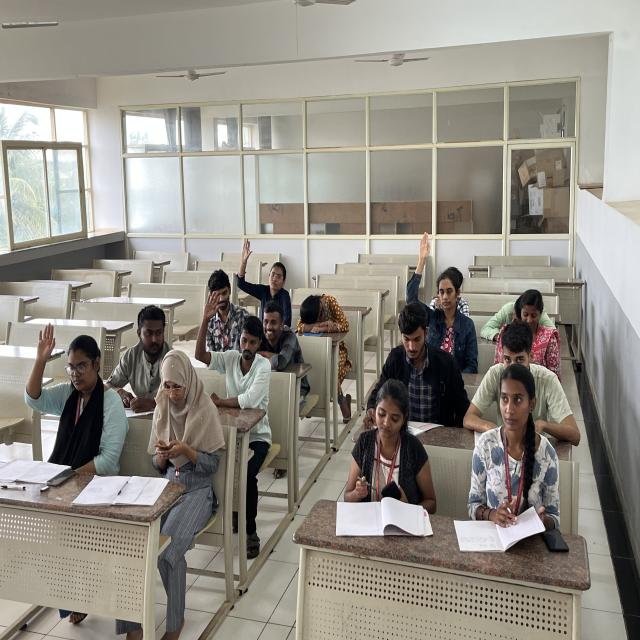Hand Rising: (6, 320, 122, 454), (190, 287, 266, 461), (398, 227, 486, 327), (228, 231, 292, 315)
Reading: (363, 293, 468, 431)
Sleeping: (289, 276, 352, 350)
Using Phone: (147, 348, 210, 472)
Writing: (330, 381, 433, 537), (467, 348, 539, 552)
